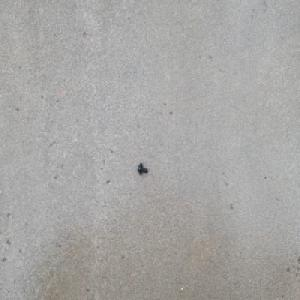BoltWasher: (137, 162, 148, 175)
